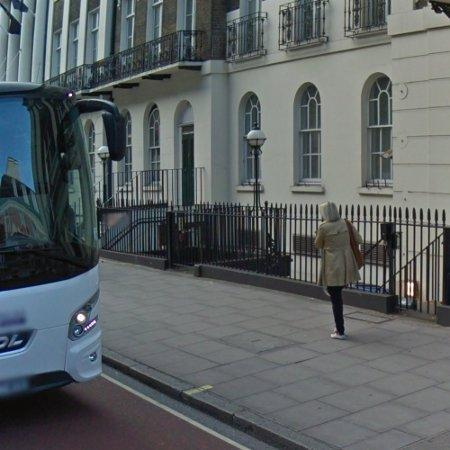buses: (0, 82, 125, 399)
